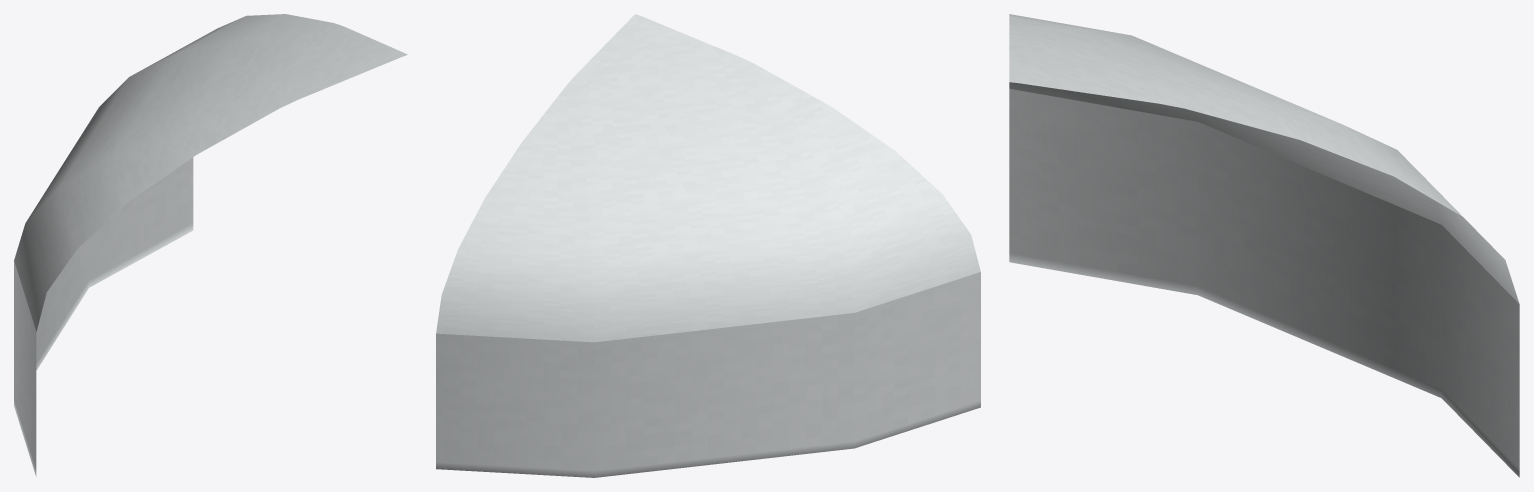
File: spheroid_small_1_0_0.obj
3 views of the same model, side by side, from view 1: azimuth 30°, elevation 25°; view 2: azimuth 150°, elevation 25°; view 3: azimuth 270°, elevation 25° (orthographic). The views are drawn at different scales.
Parts seen in each view (by area): view 1: spheroid_small_1_0_0; view 2: spheroid_small_1_0_0; view 3: spheroid_small_1_0_0.
Part boxes in pixels (<box>): spheroid_small_1_0_0: <box>14,14,407,476</box>; spheroid_small_1_0_0: <box>436,14,980,477</box>; spheroid_small_1_0_0: <box>1009,14,1519,477</box>.
Size of the model in its own units: 2.53 by 2.17 by 2.53.
